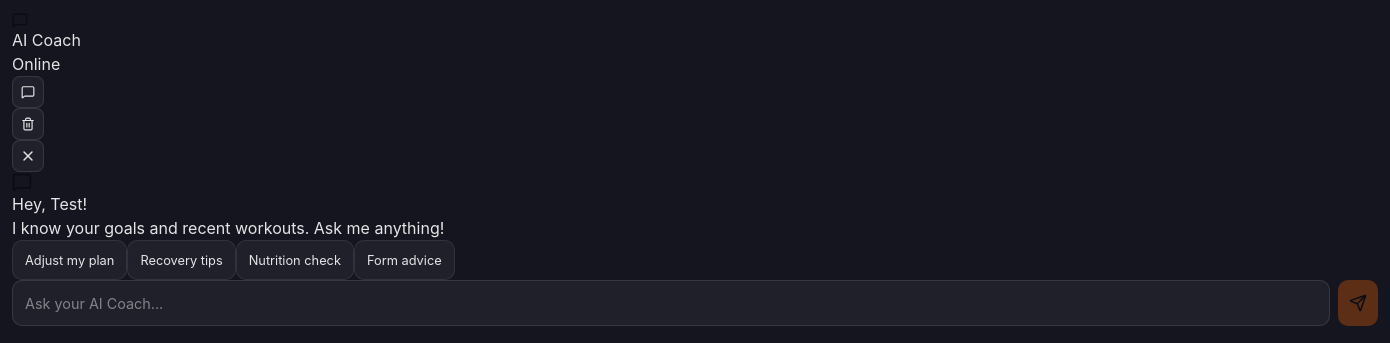
Test case: AICoachChat › enables send button when input has text
Type "Hello coach" into the field with test id "ai-coach-input" at (671, 303), box [12,280,1330,326]
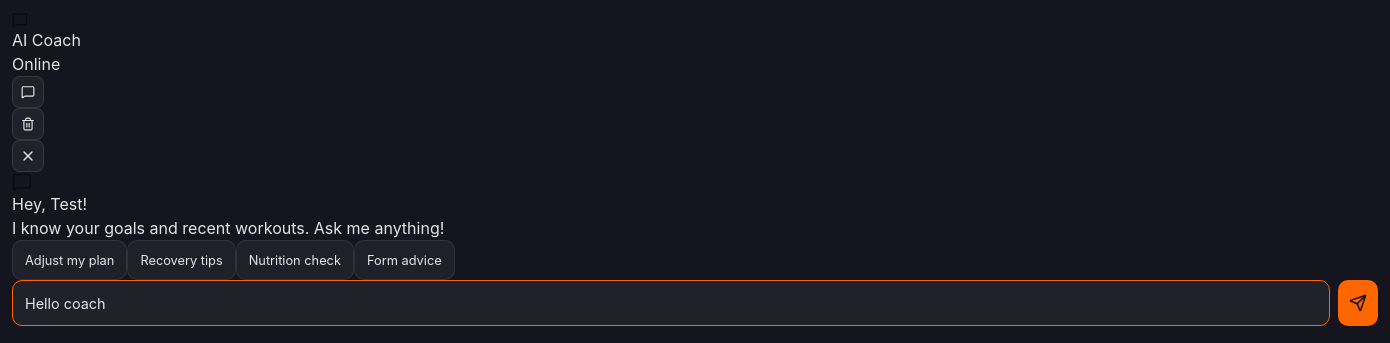
Expected: the button with test id "ai-coach-send" is enabled, [1338,280,1378,326]
